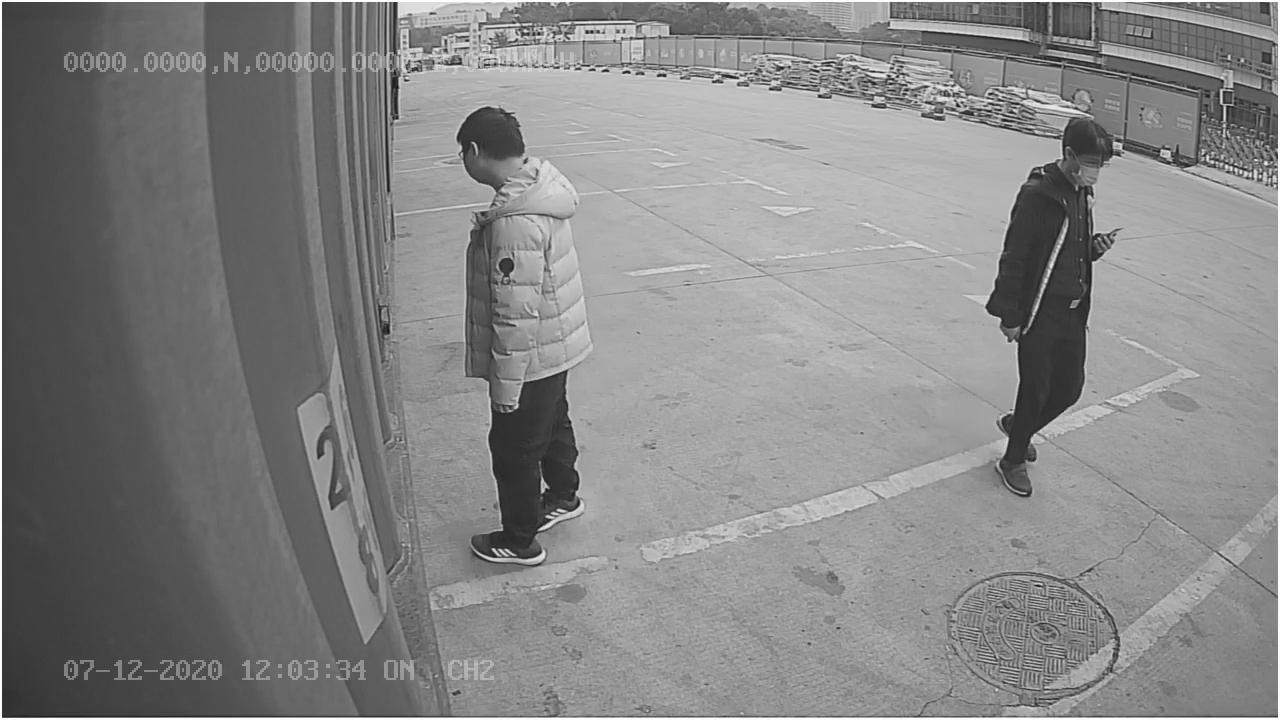person: (442, 100, 602, 564), (980, 97, 1118, 498)
